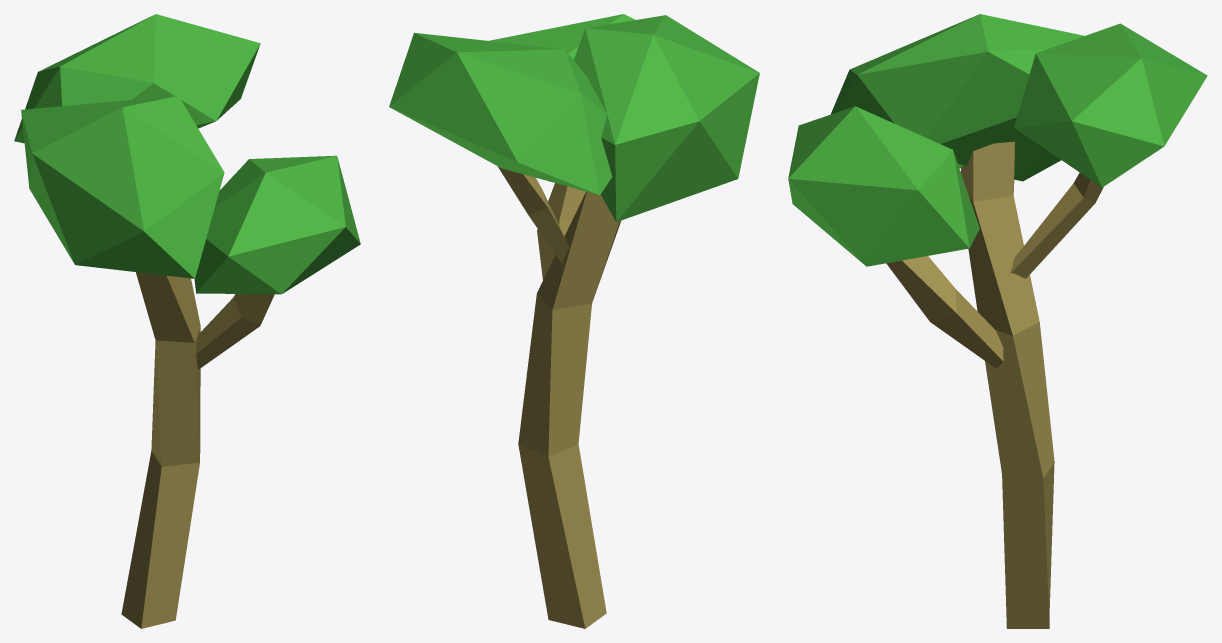
Rendered from MapleTree_6.fbx.
3 views of the same model, side by side, from view 1: azimuth 30°, elevation 25°; view 2: azimuth 150°, elevation 25°; view 3: azimuth 270°, elevation 25° (orthographic). The views are drawn at different scales.
Visible parts, largest first — view 1: Leaves.002, Trunk, Leaves.001, Leaves, Trunk.002; view 2: Leaves.002, Trunk, Leaves, Trunk.001, Leaves.001, Trunk.002; view 3: Trunk, Leaves.001, Leaves.002, Leaves, Trunk.002, Trunk.001.
Boxes of the visible parts, x1,y1,x2,y2 form: Leaves.002: (21,96,224,278); Trunk: (121,272,200,628); Leaves.001: (194,155,360,294); Leaves: (14,14,260,143); Trunk.002: (196,294,274,369); Leaves.002: (574,15,759,221); Trunk: (518,191,620,628); Leaves: (389,32,612,195); Trunk.001: (497,166,569,264); Leaves.001: (489,14,635,59); Trunk.002: (537,183,585,279); Trunk: (960,141,1054,628); Leaves.001: (788,106,979,266); Leaves.002: (830,14,1084,181); Leaves: (1014,23,1207,187); Trunk.002: (886,256,1003,368); Trunk.001: (1010,172,1103,278).
Bounding box in the file's own units: 137 × 286 × 183.
